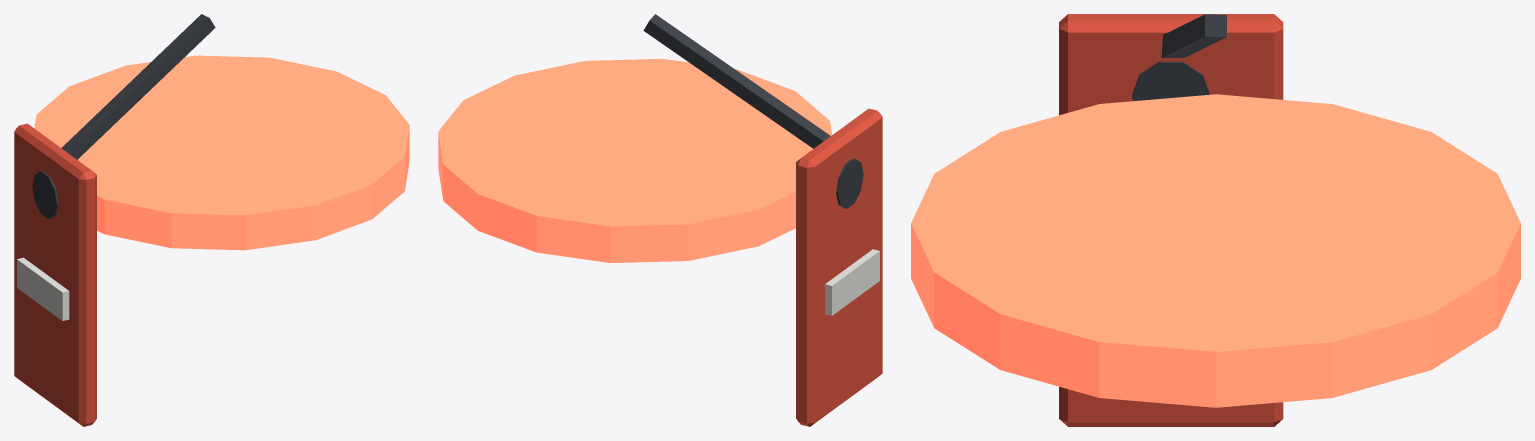
File: pomodoro_m1_2.glb
3 views of the same model, side by side, from view 1: azimuth 30°, elevation 25°; view 2: azimuth 150°, elevation 25°; view 3: azimuth 270°, elevation 25° (orthographic). The views are drawn at different scales.
Visible parts, largest first — view 1: pomodoro_m1_2_mesh; view 2: pomodoro_m1_2_mesh; view 3: pomodoro_m1_2_mesh.
Boxes of the visible parts, <box> form: pomodoro_m1_2_mesh: <box>14,14,409,426</box>; pomodoro_m1_2_mesh: <box>438,14,882,426</box>; pomodoro_m1_2_mesh: <box>911,14,1520,426</box>.
Bounding box in the file's own units: 0.593 × 0.5294 × 0.544.
